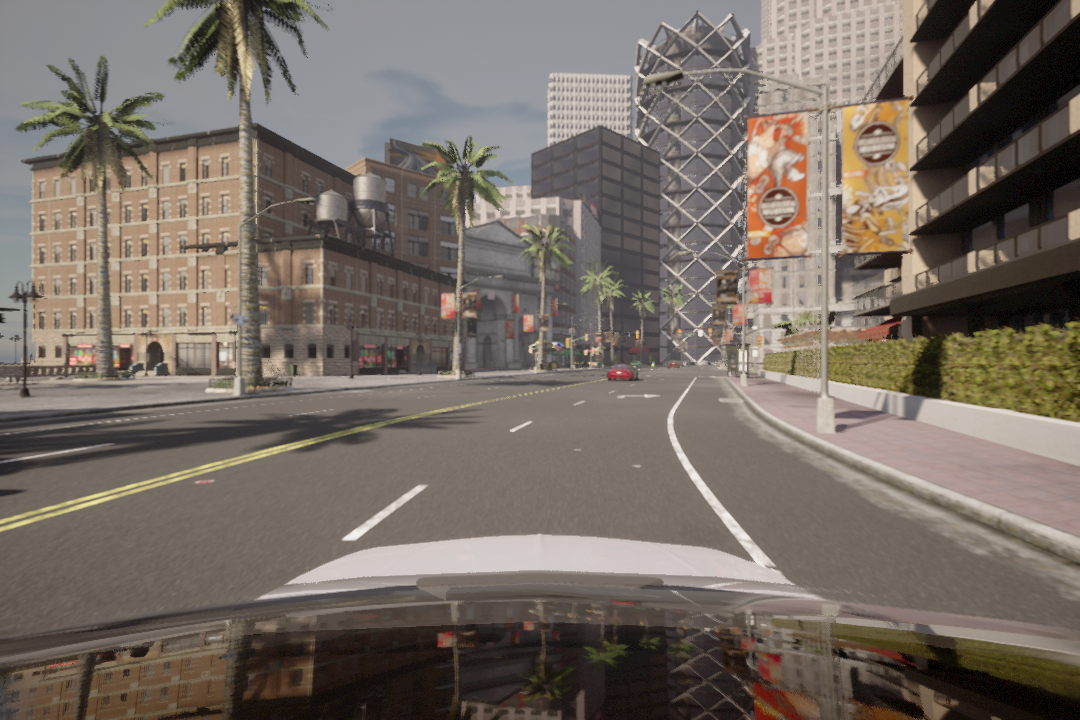RoadSign_right: (611, 389, 661, 403)
